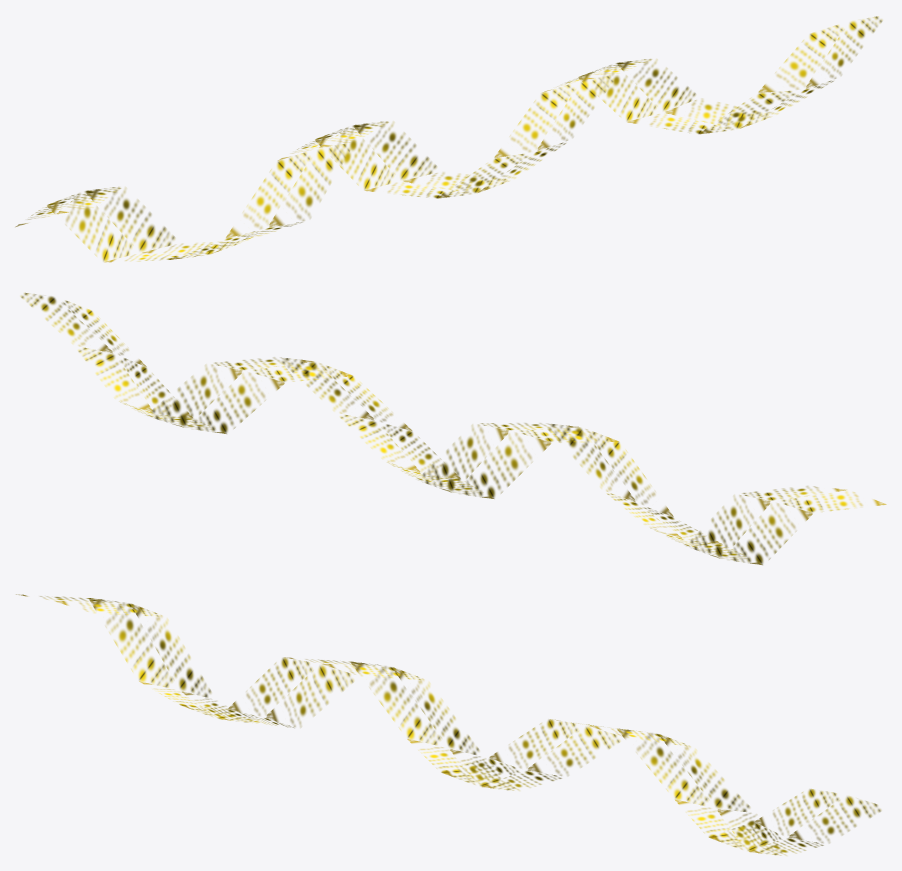
The model's file is polygonalmind-lunar-year-024.glb.
3 renders of one model, top to bottom at view 1: azimuth 30°, elevation 25°; view 2: azimuth 150°, elevation 25°; view 3: azimuth 330°, elevation 25°, orthographic.
Parts seen in each view (by area): view 1: InteriorLight06; view 2: InteriorLight06; view 3: InteriorLight06.
Part boxes in pixels (x1=…): InteriorLight06: x1=15, y1=16, x2=882, y2=262; InteriorLight06: x1=20, y1=292, x2=886, y2=564; InteriorLight06: x1=16, y1=594, x2=881, y2=855.
Size of the model in its own units: 3.96 by 0.3881 by 0.2876.
Materials: 1 (1 with a texture image).
